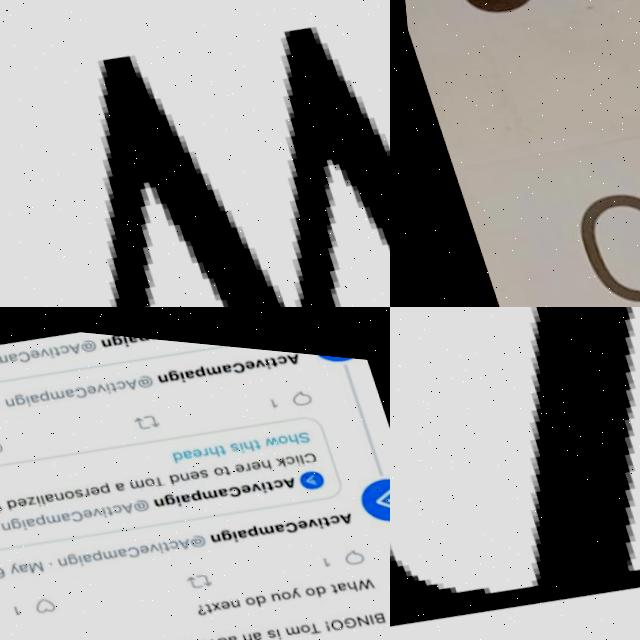0: (542, 161, 640, 307)
3: (413, 0, 549, 33)
A: (335, 500, 350, 514), (279, 466, 294, 479), (117, 494, 132, 507), (285, 342, 300, 355), (173, 530, 187, 542), (123, 371, 137, 383), (331, 570, 344, 582), (220, 353, 233, 365), (68, 336, 81, 348), (270, 512, 283, 523), (182, 360, 195, 371), (246, 622, 258, 633), (78, 546, 90, 557), (214, 478, 226, 489), (56, 506, 68, 517), (40, 487, 52, 498), (179, 440, 191, 451), (62, 381, 74, 392), (7, 347, 19, 358), (191, 630, 204, 640), (222, 626, 233, 637), (233, 519, 244, 530), (113, 540, 124, 551), (177, 485, 188, 496), (21, 512, 32, 523), (13, 558, 24, 568), (112, 475, 123, 485), (27, 388, 38, 398), (127, 330, 139, 337)
B: (368, 600, 381, 613)
C: (280, 510, 295, 524), (122, 538, 137, 552), (230, 351, 245, 365), (72, 380, 87, 394), (16, 345, 31, 359), (66, 504, 81, 517), (301, 441, 315, 454), (225, 476, 239, 489), (269, 469, 283, 480), (325, 503, 338, 514), (164, 531, 177, 542), (107, 497, 120, 508), (57, 338, 70, 349), (282, 444, 294, 455), (276, 344, 288, 355), (114, 372, 126, 383), (171, 634, 184, 640)
D: (310, 574, 323, 588), (250, 585, 263, 599), (2, 494, 15, 507), (169, 443, 182, 456), (211, 627, 223, 640), (166, 465, 178, 478), (151, 637, 164, 640)
E: (247, 450, 260, 462), (244, 349, 257, 361), (293, 508, 305, 520), (133, 536, 145, 548), (214, 591, 227, 602), (237, 474, 250, 485), (78, 502, 90, 513), (231, 453, 243, 464), (186, 461, 198, 472), (86, 479, 98, 490), (12, 492, 24, 503), (188, 439, 200, 450), (84, 377, 96, 388), (28, 343, 40, 354), (379, 633, 390, 640), (162, 636, 174, 640)
G: (338, 605, 353, 619), (160, 485, 174, 499), (216, 519, 230, 532), (166, 361, 180, 374), (5, 512, 18, 525), (11, 388, 24, 401), (62, 547, 74, 560), (110, 329, 124, 339)
H: (258, 449, 269, 462), (241, 431, 252, 444), (342, 569, 353, 581), (207, 437, 217, 450), (286, 424, 297, 435)
I: (313, 506, 321, 518), (171, 487, 179, 499), (263, 347, 271, 359), (32, 490, 39, 502), (23, 390, 30, 402), (47, 341, 54, 353), (153, 534, 160, 546), (227, 522, 234, 533), (257, 473, 264, 484), (178, 363, 185, 374), (103, 376, 110, 387), (363, 603, 370, 614), (97, 501, 104, 511), (270, 619, 276, 630), (17, 515, 23, 526), (292, 444, 298, 455), (237, 433, 243, 444), (73, 549, 79, 560), (122, 330, 129, 339)
K: (273, 447, 284, 459)
L: (296, 444, 303, 455), (36, 490, 42, 501)
M: (255, 514, 273, 527), (204, 355, 222, 368), (199, 479, 216, 492), (279, 615, 296, 627), (97, 542, 114, 554), (41, 508, 58, 520), (125, 471, 142, 483), (23, 555, 38, 568), (48, 383, 64, 395), (0, 348, 8, 360)
N: (352, 603, 365, 616), (100, 330, 112, 342), (236, 624, 248, 635), (206, 524, 218, 535), (51, 551, 63, 562), (150, 489, 162, 500), (176, 463, 188, 474), (156, 365, 168, 376), (225, 589, 236, 600), (51, 485, 62, 496), (3, 392, 14, 403), (182, 633, 193, 640), (0, 517, 7, 527)
O: (324, 607, 339, 622), (294, 613, 307, 624), (299, 576, 312, 587), (239, 587, 252, 598), (210, 457, 223, 468), (140, 469, 153, 480), (275, 424, 288, 435), (59, 484, 72, 494), (276, 580, 287, 591)
P: (186, 481, 199, 494), (242, 516, 255, 528), (95, 476, 108, 488), (193, 357, 205, 370), (37, 384, 49, 397), (87, 544, 99, 556), (31, 509, 42, 521), (359, 635, 372, 640), (137, 331, 149, 335)
R: (198, 438, 207, 448), (241, 453, 250, 462), (79, 482, 88, 491)
S: (296, 421, 309, 434), (69, 481, 81, 493), (195, 460, 207, 471), (227, 432, 238, 444), (261, 620, 271, 630)
T: (390, 307, 640, 640), (149, 468, 163, 481), (303, 612, 316, 625), (325, 572, 334, 583), (101, 499, 110, 510), (220, 457, 229, 468), (269, 346, 278, 357), (251, 430, 260, 441), (216, 435, 225, 446), (157, 534, 166, 544), (262, 471, 271, 481), (319, 505, 327, 516), (200, 595, 208, 605), (108, 375, 116, 385), (53, 341, 59, 351)
U: (265, 582, 277, 593)
V: (245, 471, 260, 483), (303, 506, 316, 517), (253, 348, 266, 359), (37, 342, 50, 353), (201, 629, 212, 640), (94, 376, 105, 387), (143, 535, 155, 545), (88, 501, 99, 511)
W: (0, 0, 390, 307), (351, 564, 371, 581), (261, 425, 278, 437)
X: (206, 593, 217, 603), (371, 635, 382, 640)
Y: (3, 558, 15, 570), (285, 577, 295, 589)
Z: (23, 491, 34, 501)
